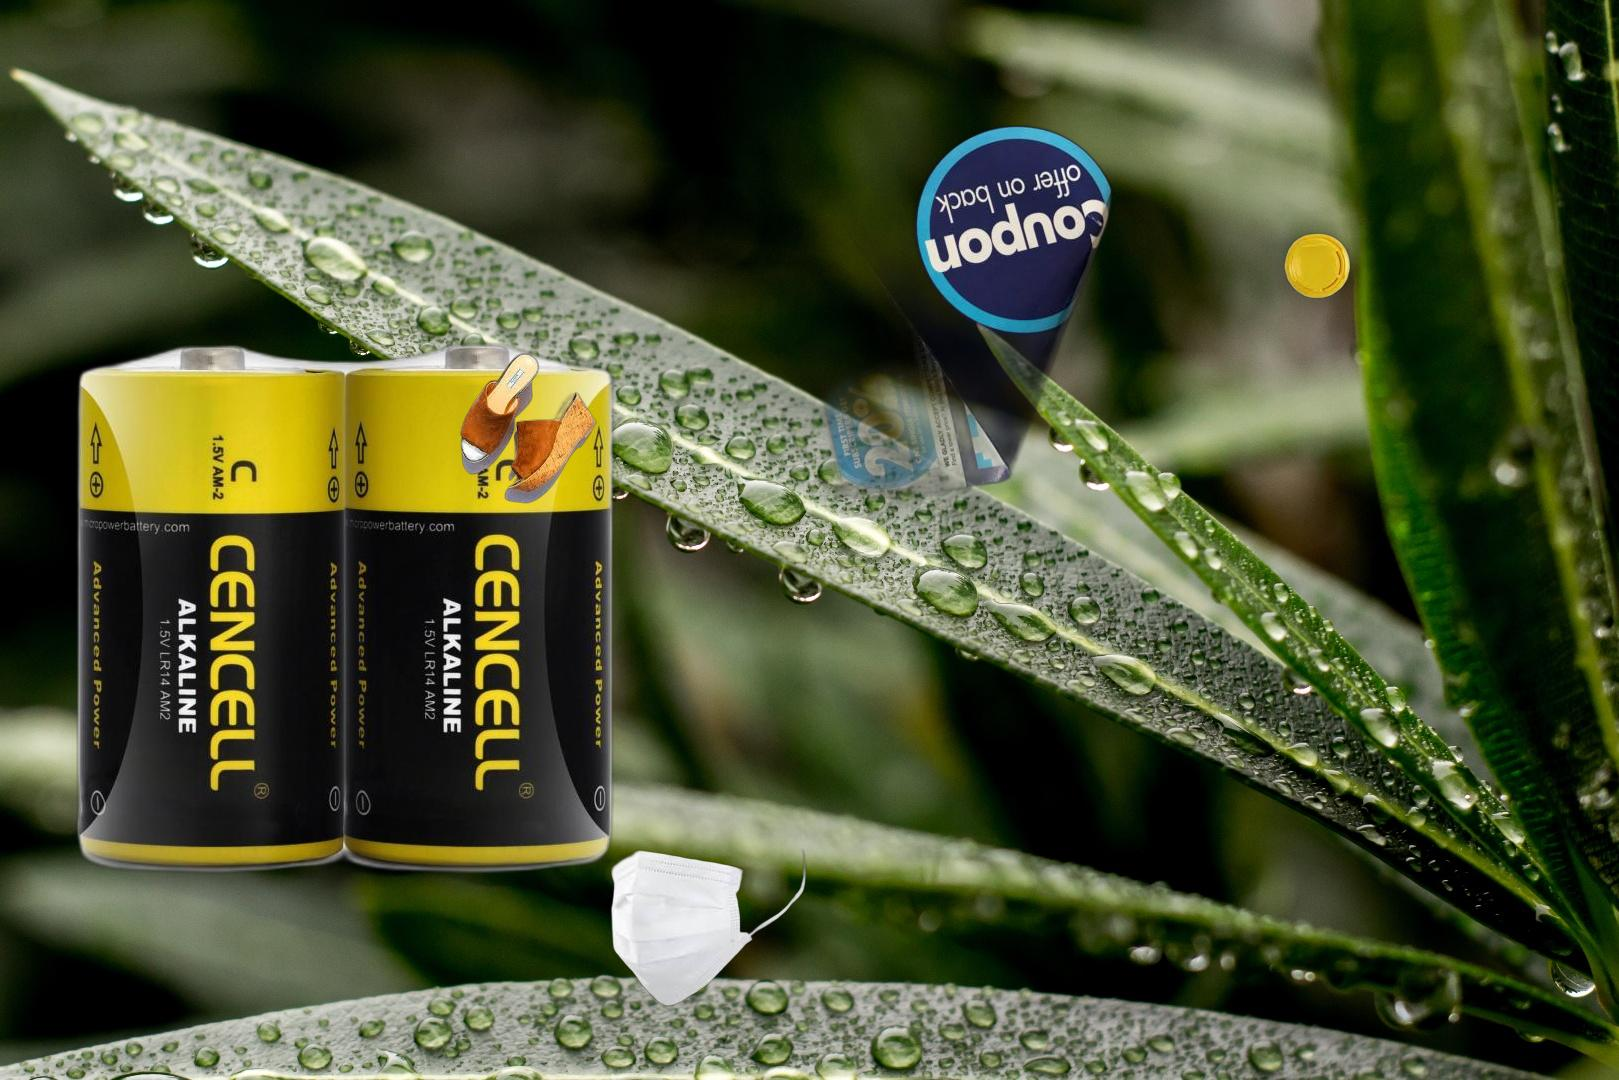battery: (71, 337, 620, 877)
paper: (696, 115, 1118, 499)
shoes: (458, 351, 599, 506)
trash: (608, 847, 809, 1009), (1281, 230, 1353, 301)
